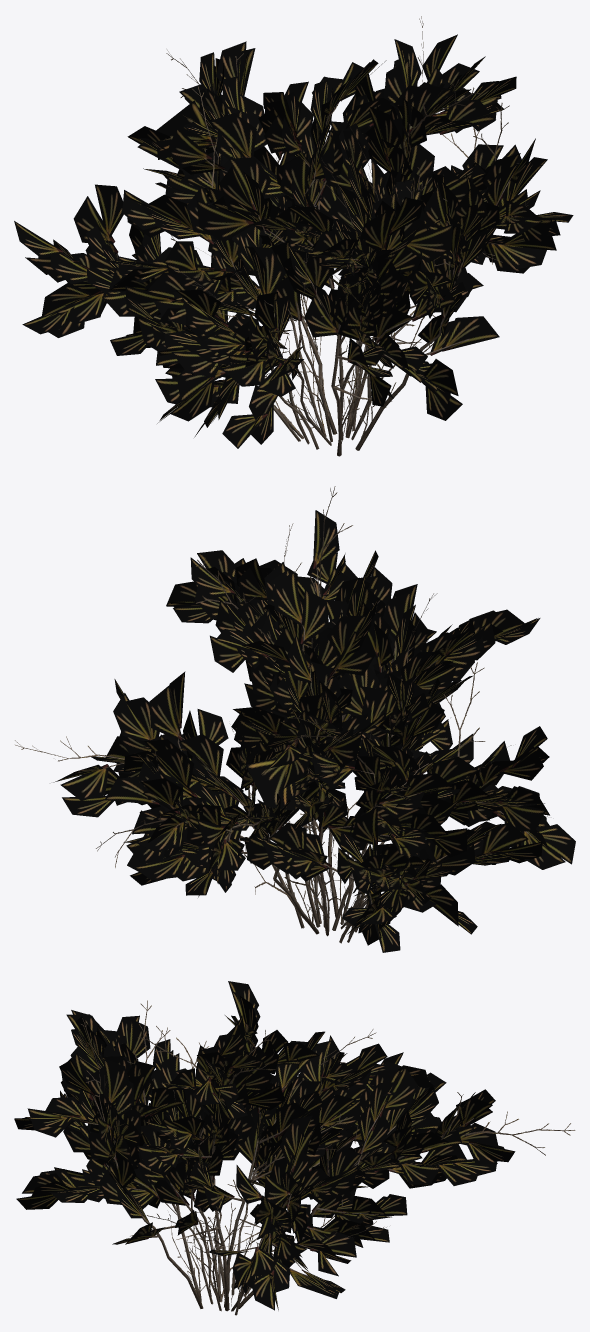
File: sage_1.glb
3 renders of one model, top to bottom at view 1: azimuth 30°, elevation 25°; view 2: azimuth 150°, elevation 25°; view 3: azimuth 270°, elevation 25°, orthographic. The views are drawn at different scales.
Visible parts, largest first — view 1: SCENERY_sage_1; view 2: SCENERY_sage_1; view 3: SCENERY_sage_1.
Part boxes in pixels (x1,y1,x2,y2): SCENERY_sage_1: (14, 16, 573, 456); SCENERY_sage_1: (15, 486, 575, 952); SCENERY_sage_1: (14, 981, 575, 1315).
Bounding box in the file's own units: 1.15 × 0.9 × 1.42.
3 materials, 3 textured.
